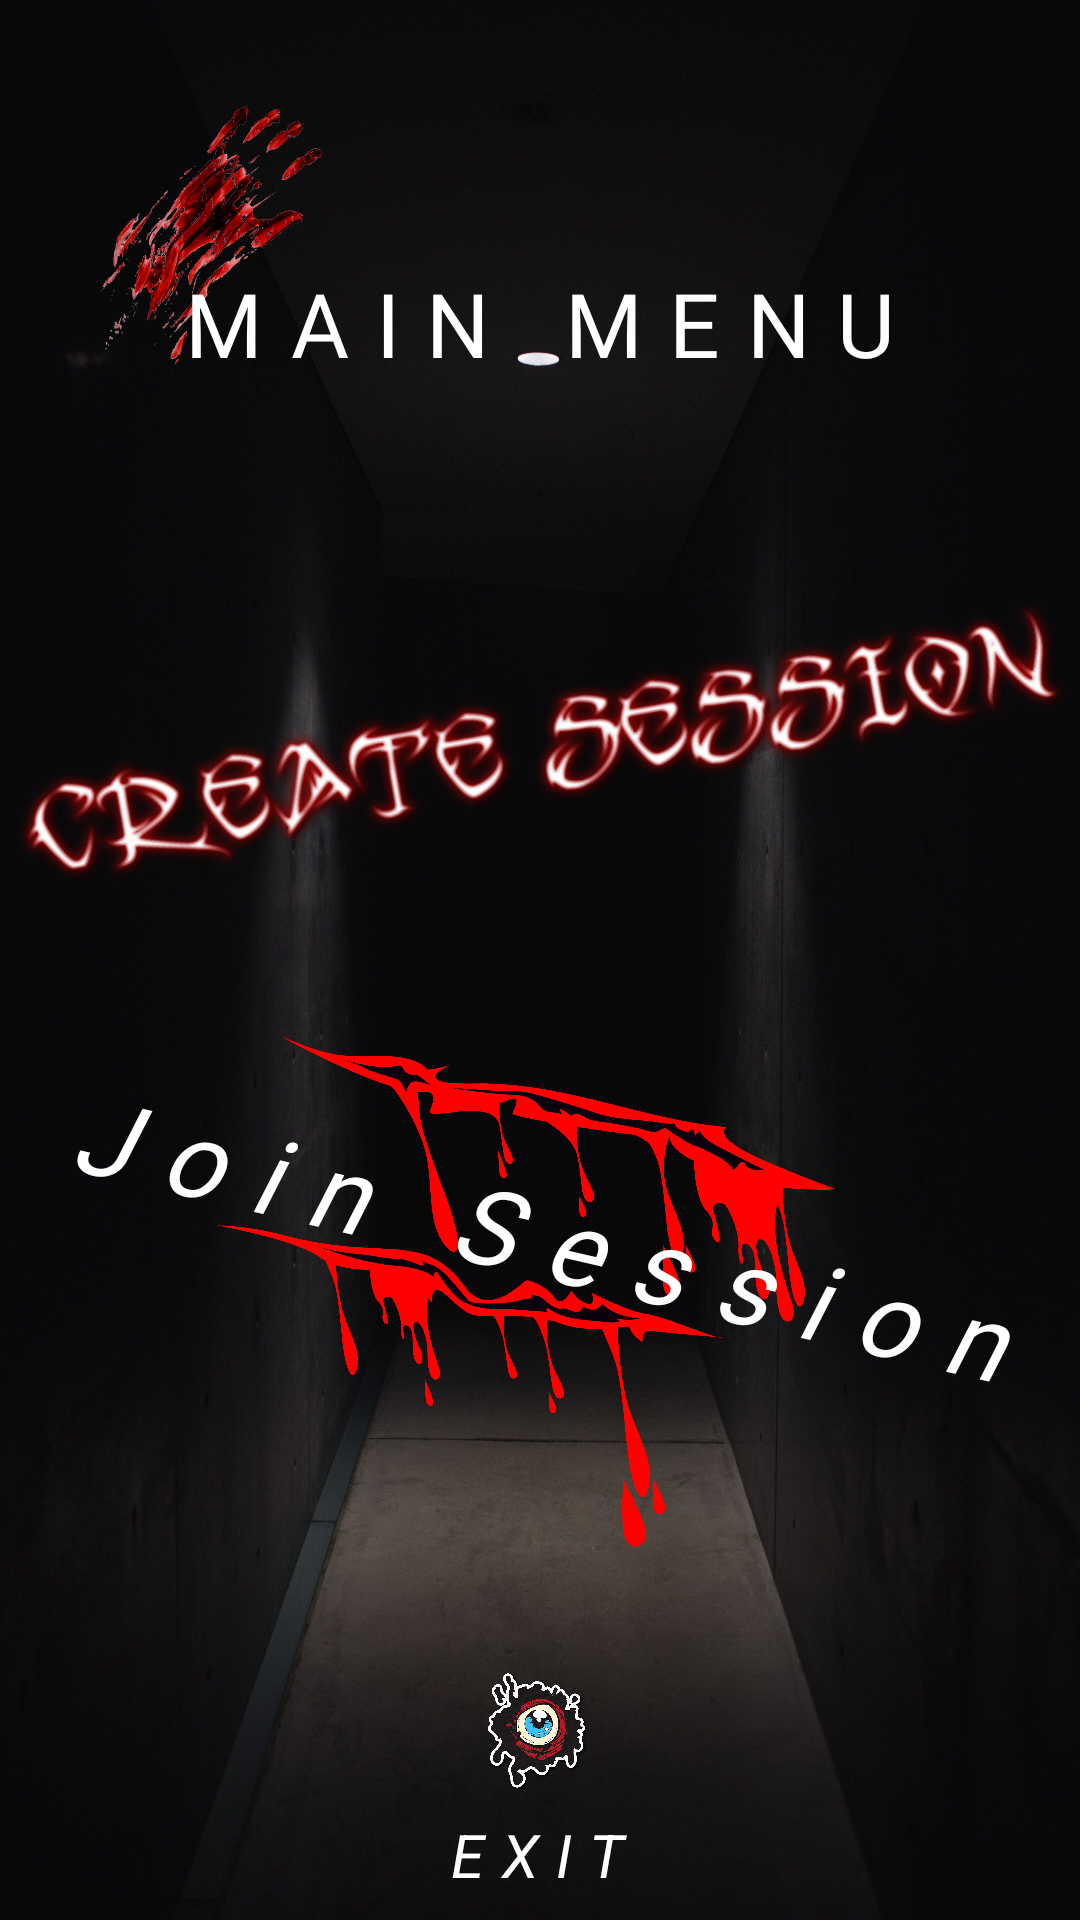

Icon click points for this 1080px×1920px phone screenshot, format point (x, y):
oeil de soron: point (538, 1723)
